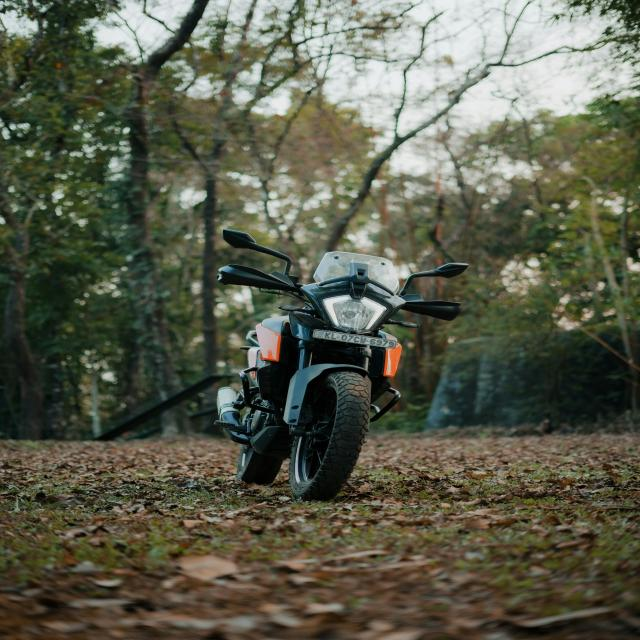Bike: (205, 225, 472, 501)
